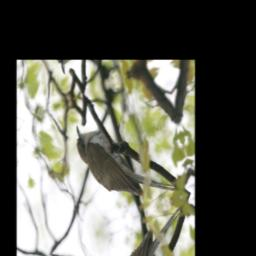Cuckoo: (72, 92, 178, 227)
